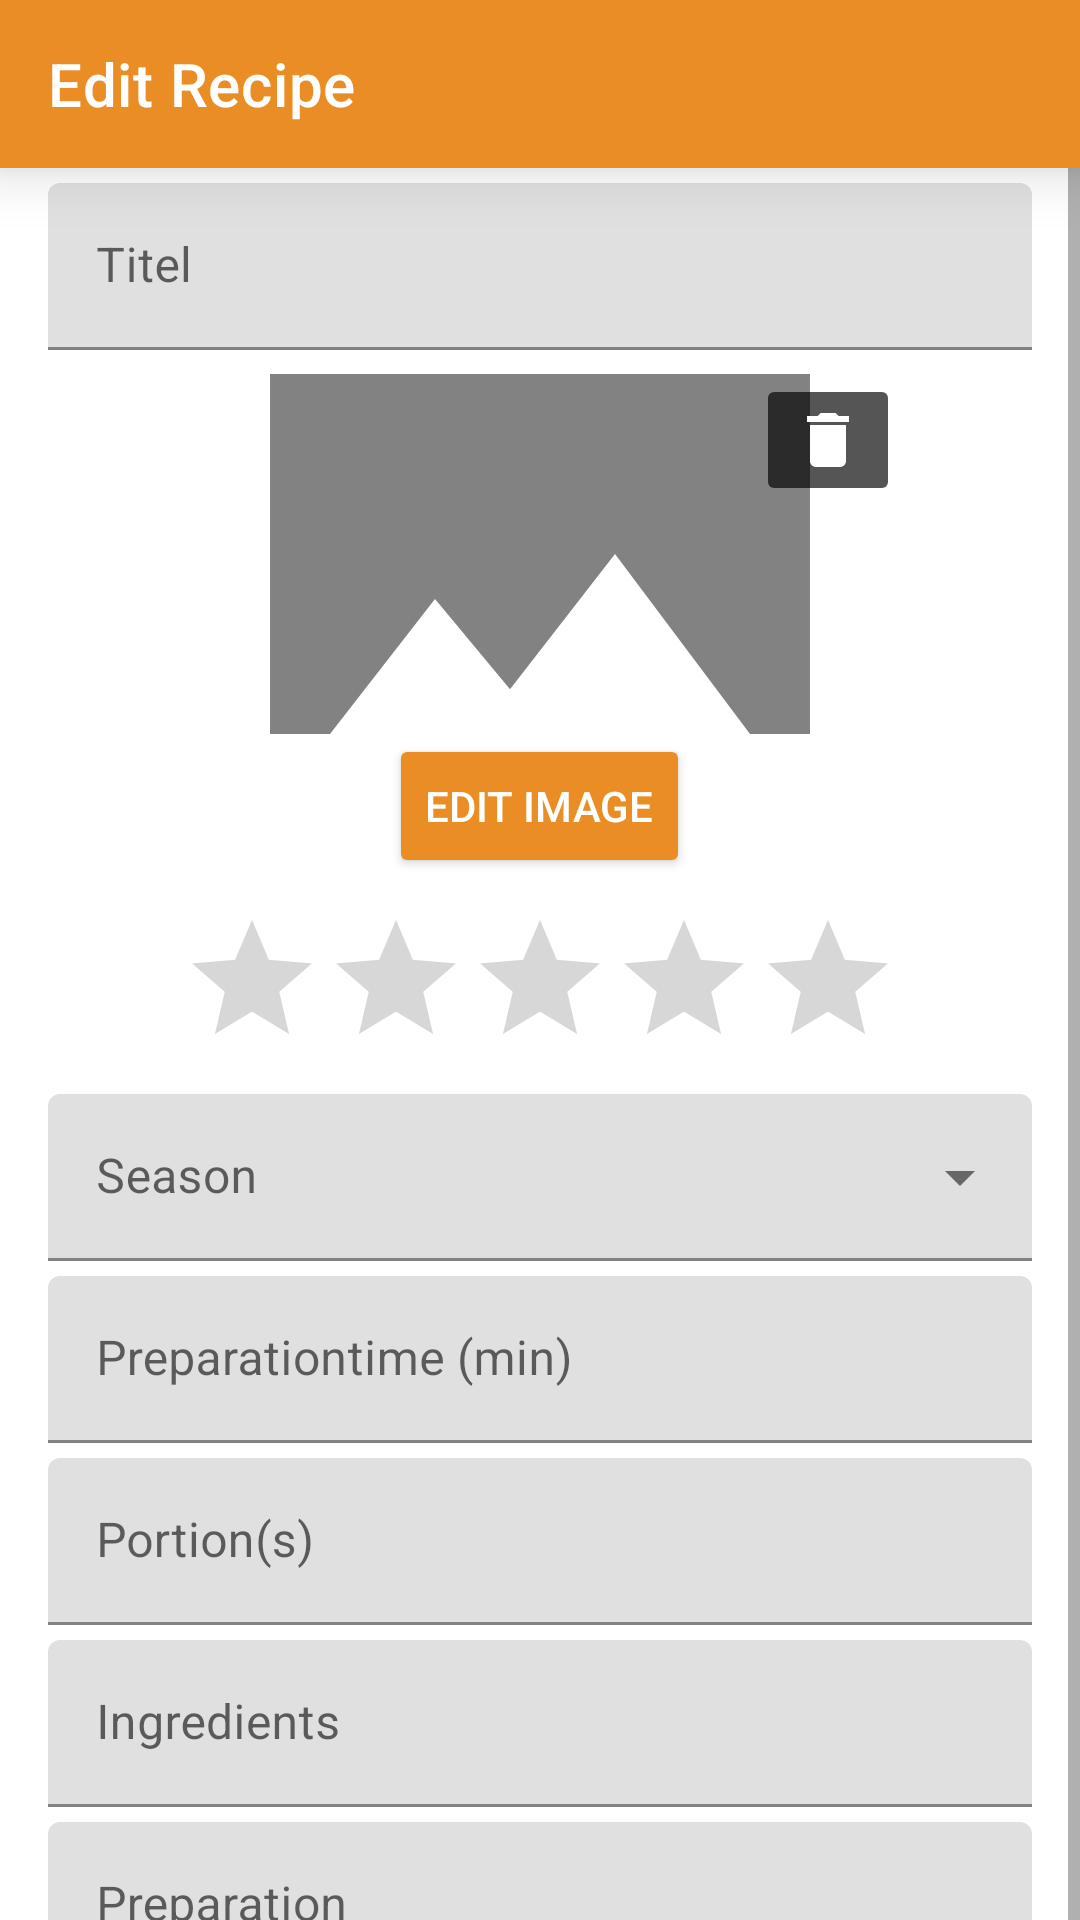

Locate icon controls on the screen. Image size 1080x1920, boxes as (x1, y1, x2, y2).
Delete image: (756, 374, 888, 506)
